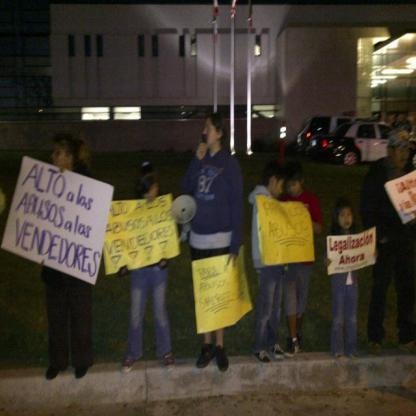face: (202, 119, 218, 148), (51, 145, 68, 172), (392, 142, 409, 169), (143, 181, 159, 202), (339, 207, 353, 230), (274, 177, 286, 199), (288, 178, 301, 198)
